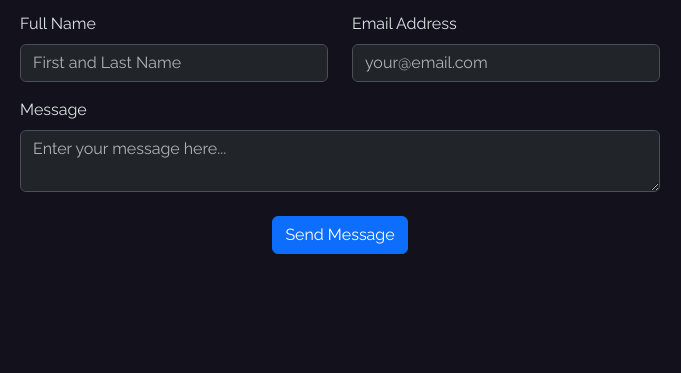
ContactForm › Should submit and display notification when form has valid data
In the field with placeholder "First and Last Name": coordinates (174, 63) [20,44,328,82], type "John Doe"
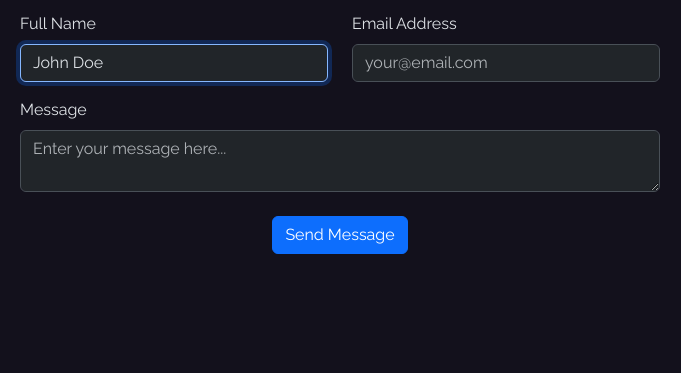
In the field with placeholder "your@email.com": coordinates (506, 63) [352,44,660,82], type "john.doe@example.com"
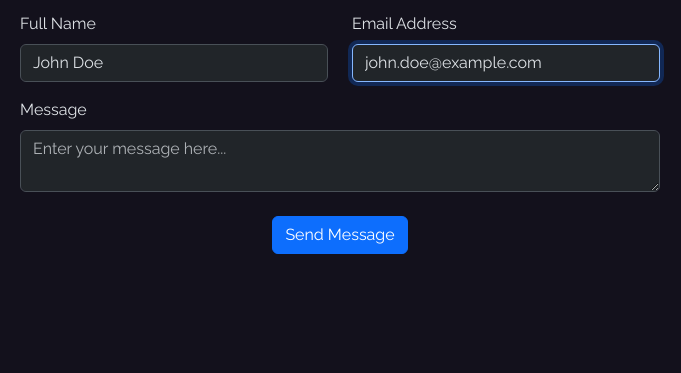
In the text box with placeholder "Enter your message here...": coordinates (340, 161) [20,130,660,192], type "I love this app!"
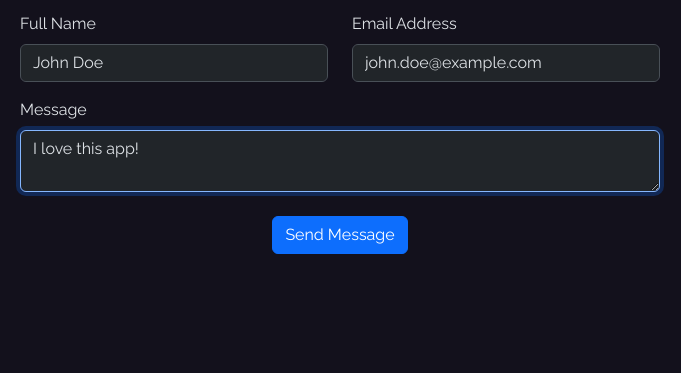
Click the button "Send Message": coordinates (340, 235) [272,216,408,254]
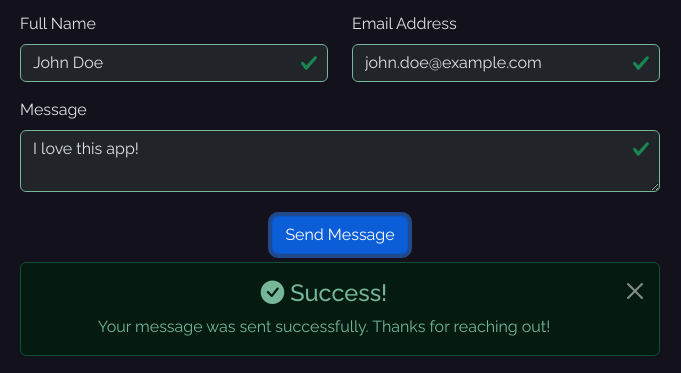
expect the message "Success! Your message was sent successfully. Thanks for reaching out!" is shown: met, box [20,262,660,356]
